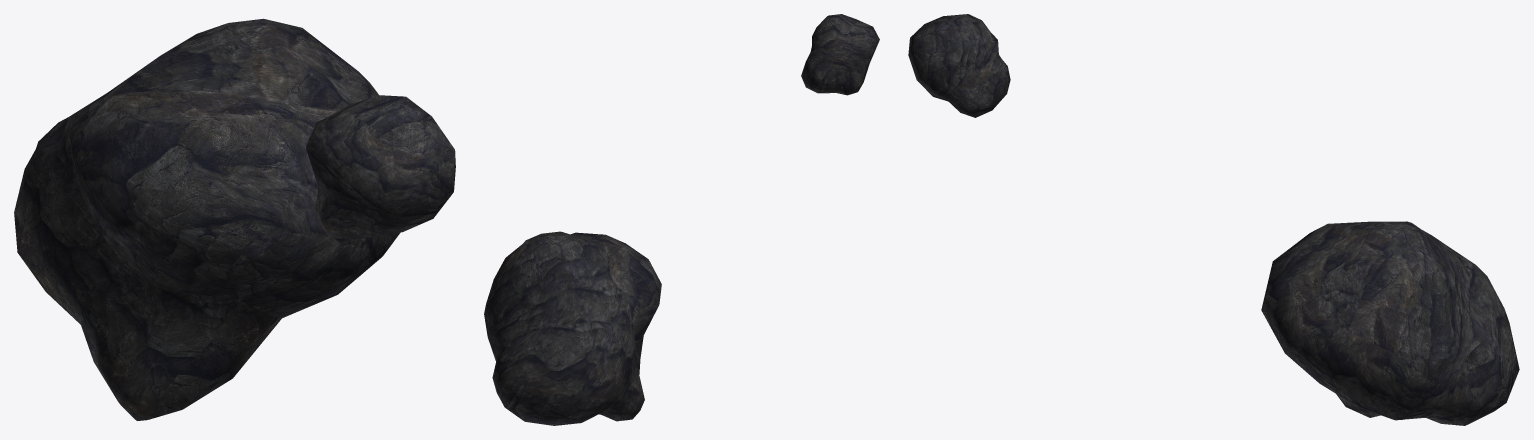
File: stg610_04.obj
3 views of the same model, side by side, from view 1: azimuth 30°, elevation 25°; view 2: azimuth 150°, elevation 25°; view 3: azimuth 270°, elevation 25° (orthographic). The views are drawn at different scales.
Visible parts, largest first — view 1: polygon1, polygon0; view 2: polygon1, polygon0; view 3: polygon1, polygon0.
Boxes of the visible parts, x1,y1,x2,y2 form: polygon1: (14,18,399,420); polygon0: (306,95,455,239); polygon1: (484,231,661,425); polygon0: (801,14,879,95); polygon1: (1261,221,1519,425); polygon0: (908,14,1010,117).
Bounding box in the file's own units: 1612 × 2169 × 3326.
1 material, 1 textured.
